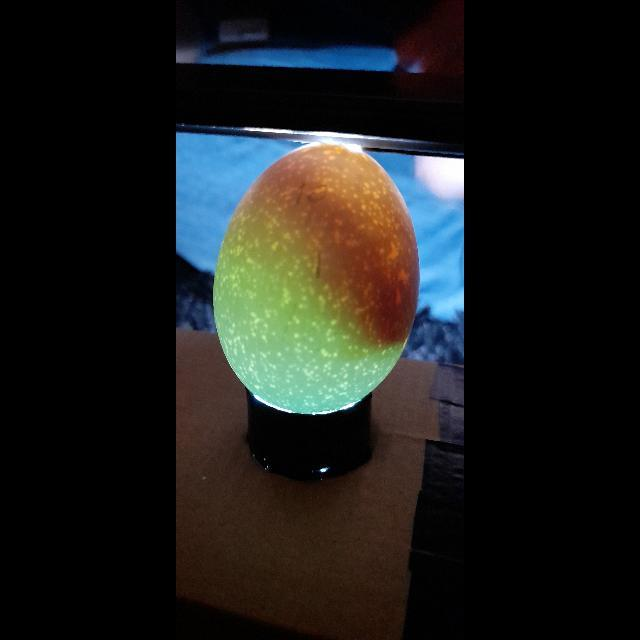Infertile: (212, 136, 424, 416)
